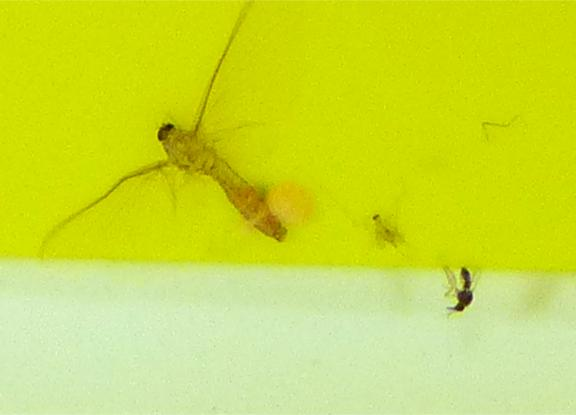Brachycera: (448, 264, 476, 315)
Ephemeroptera: (100, 100, 289, 244)
Nematocera: (370, 211, 398, 244)
